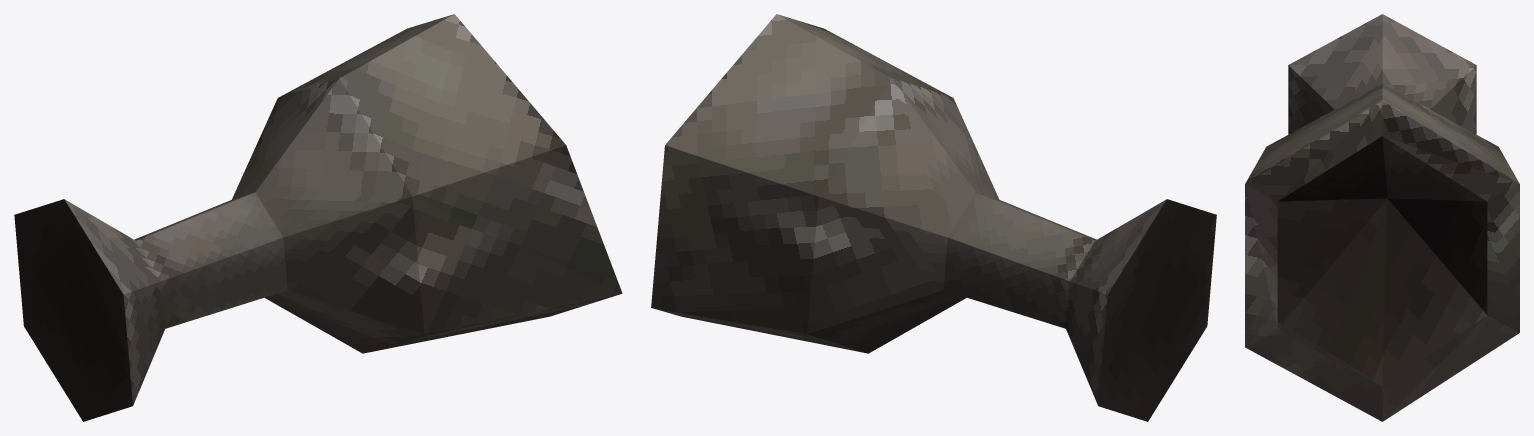
File: cultist_goblet_01.fbx
The picture shows the model from 3 angles, left to right: view 1: azimuth 30°, elevation 25°; view 2: azimuth 150°, elevation 25°; view 3: azimuth 270°, elevation 25°; orthographic projection. The views are drawn at different scales.
Visible parts, largest first — view 1: obj0.320; view 2: obj0.320; view 3: obj0.320.
Boxes of the visible parts, x1,y1,x2,y2 form: obj0.320: (14, 14, 622, 421); obj0.320: (651, 14, 1216, 421); obj0.320: (1245, 14, 1519, 421).
Size of the model in its own units: 0.5569 by 0.3571 by 0.3163.
